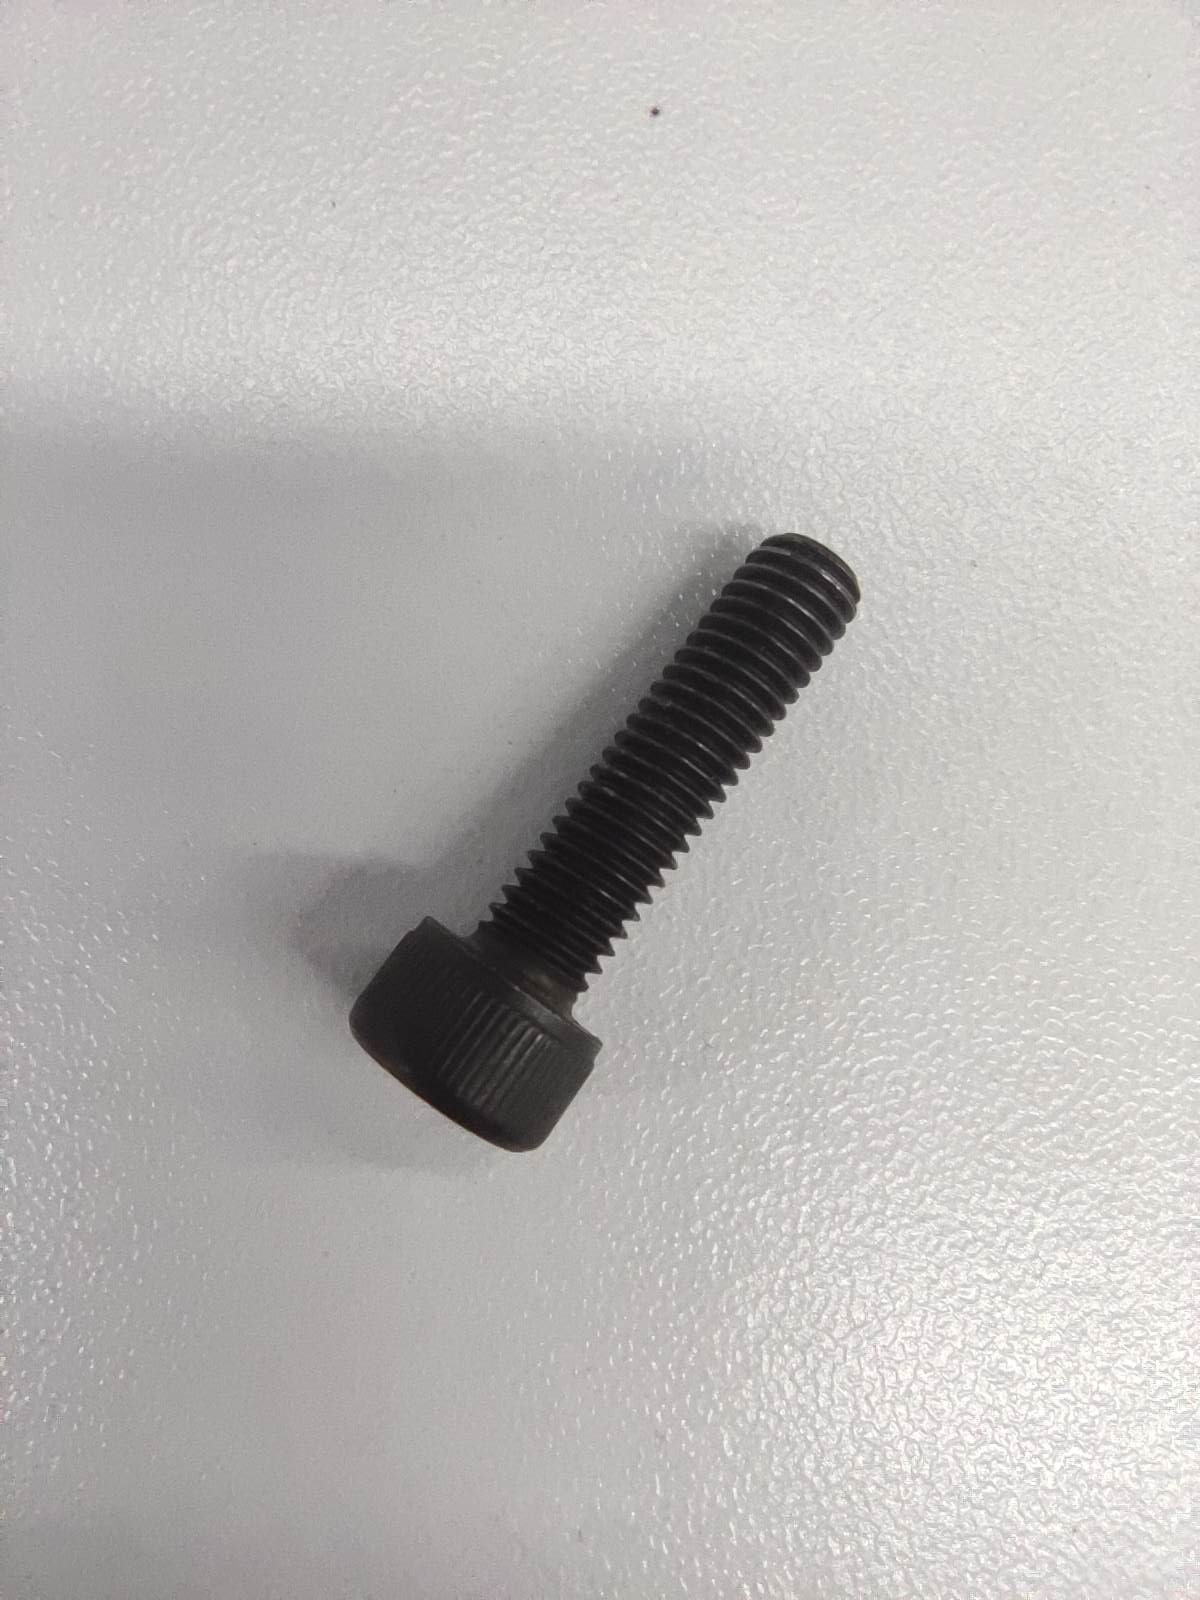螺钉: (348, 530, 861, 1153)
